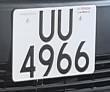4: (17, 40, 38, 82)
6: (72, 40, 92, 75), (55, 42, 74, 76)
9: (36, 41, 55, 79)
U: (35, 6, 57, 45), (55, 5, 76, 44)
